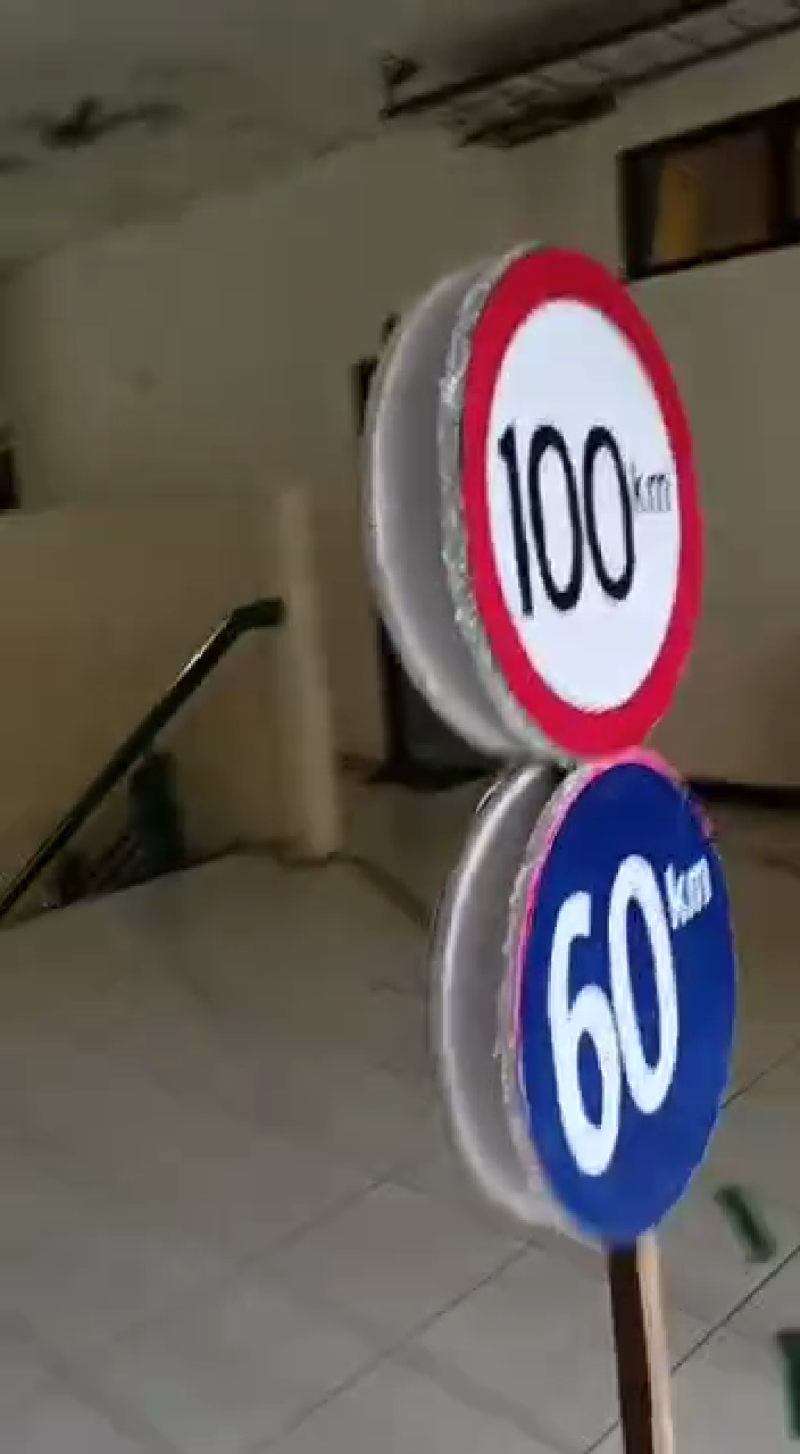batas maksimal 100kmperjam minimal 60kmperjam: (430, 219, 752, 1258)
